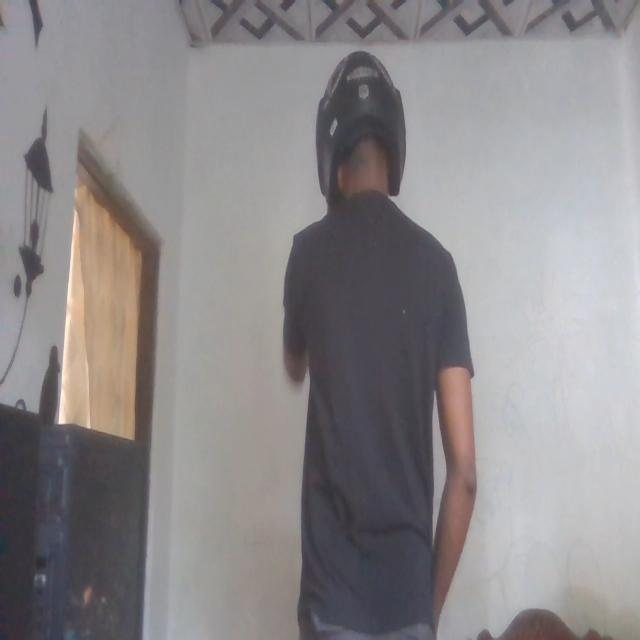Helmet_Wearer: (306, 48, 414, 233)
Person: (283, 46, 475, 640)
